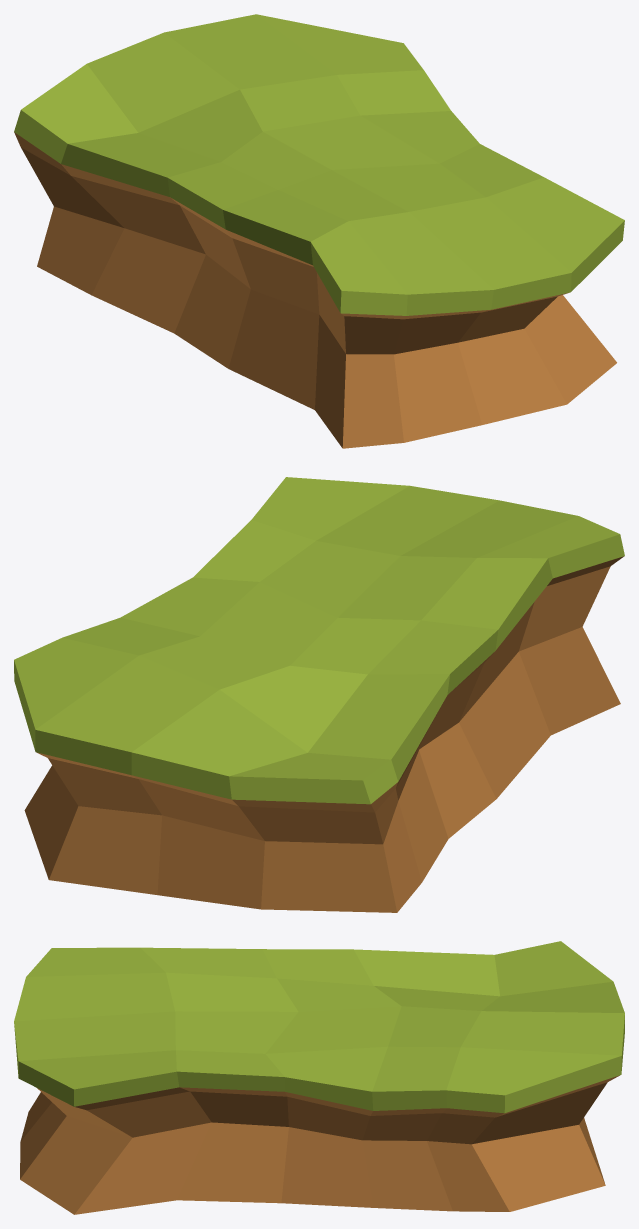
Rendered from drn_textured7.fbx.
3 views of the same model, one above another, from view 1: azimuth 30°, elevation 25°; view 2: azimuth 150°, elevation 25°; view 3: azimuth 270°, elevation 25° (orthographic). The views are drawn at different scales.
Visible parts, largest first — view 1: JaynamLowPolyTerrain_drny_rozdelane:pCube1; view 2: JaynamLowPolyTerrain_drny_rozdelane:pCube1; view 3: JaynamLowPolyTerrain_drny_rozdelane:pCube1.
Part boxes in pixels (x1,y1,x2,y2): JaynamLowPolyTerrain_drny_rozdelane:pCube1: [14, 14, 624, 448]; JaynamLowPolyTerrain_drny_rozdelane:pCube1: [14, 477, 624, 912]; JaynamLowPolyTerrain_drny_rozdelane:pCube1: [14, 941, 624, 1214].
Size of the model in its own units: 0.7711 by 0.3548 by 1.24.
